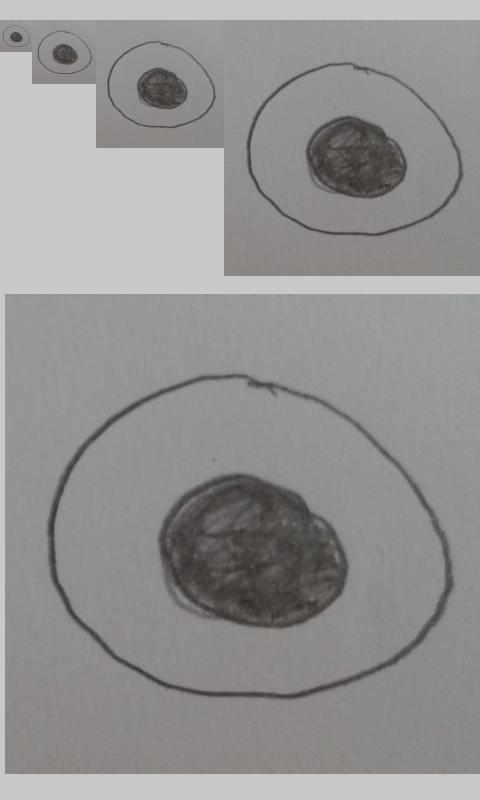radio_button: (43, 368, 454, 705), (245, 58, 466, 239), (106, 40, 217, 129), (36, 29, 93, 75), (2, 24, 31, 48)
